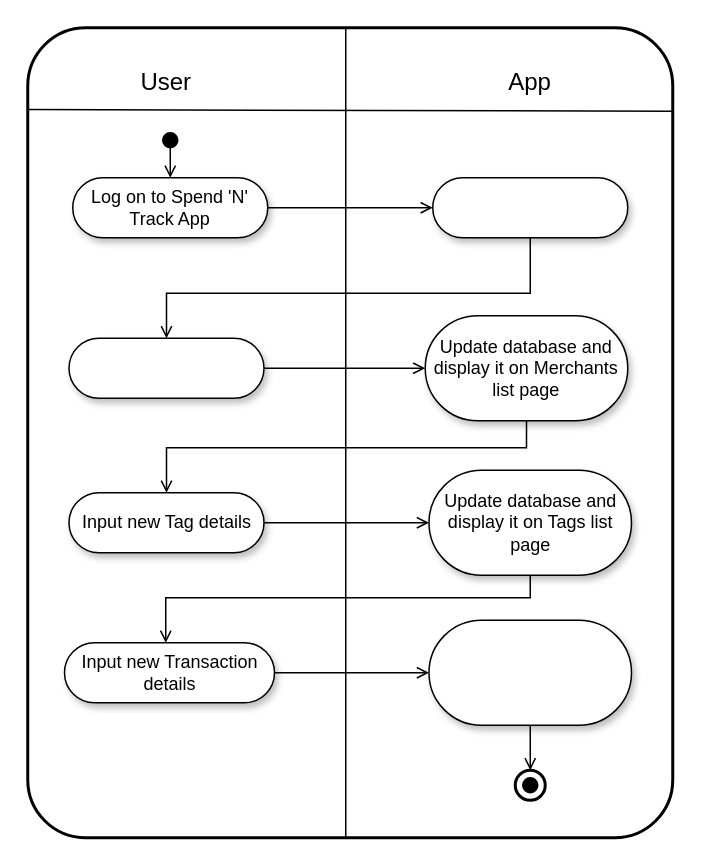
This 702x866 diagram has some shape labels left out. Here are the shapes that lost their labels. From the top down, the centre of each, then its label:
the point at 531,209: Display home page
the point at 167,370: Input new Merchant details
the point at 531,674: Update database and display it on Transactions list page
